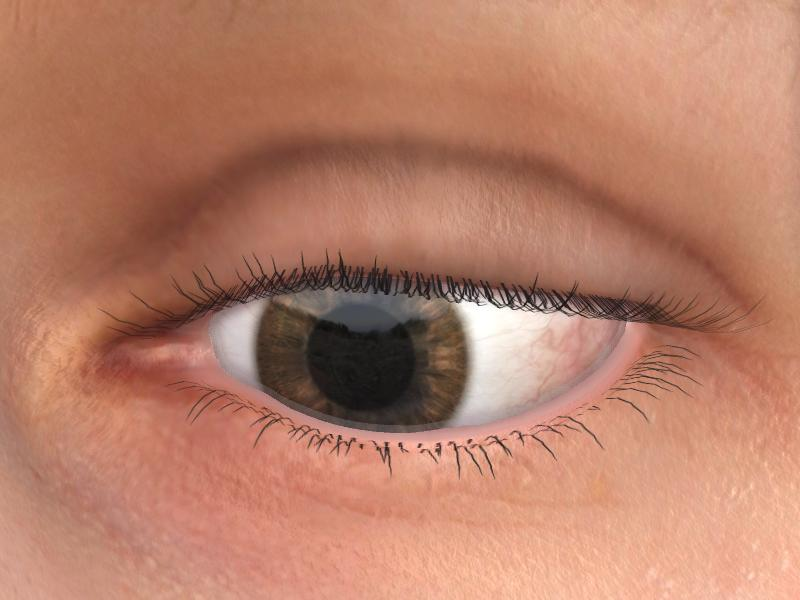eye: (256, 281, 470, 429)
